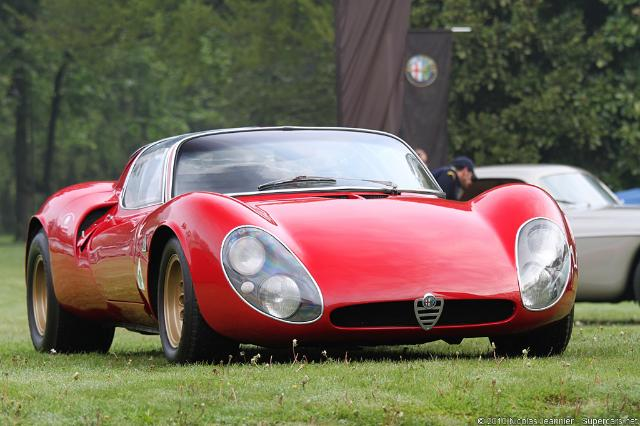alpha-romeo: (22, 126, 580, 366)
